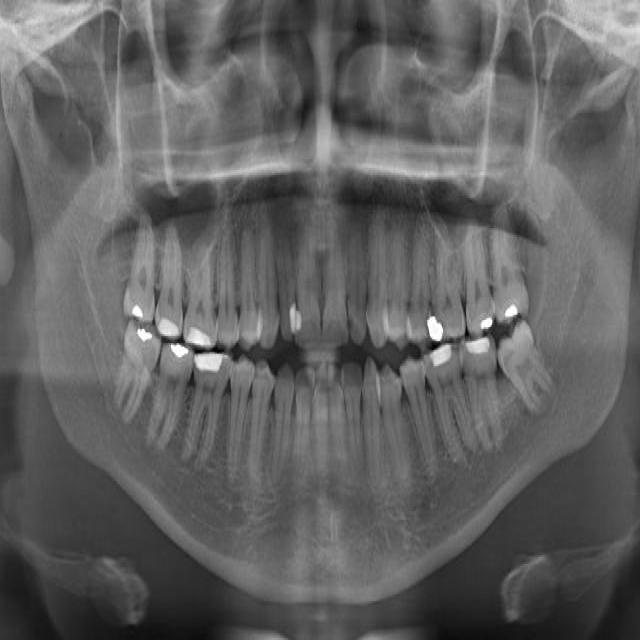dentin-curugu: (341, 306, 358, 336)
dolgu: (423, 304, 457, 346), (420, 340, 460, 371), (186, 311, 217, 350), (194, 347, 228, 382), (462, 334, 498, 367), (160, 340, 193, 375), (158, 300, 184, 340), (127, 288, 152, 324), (497, 291, 523, 323), (131, 320, 156, 352), (288, 292, 304, 337), (470, 305, 495, 331)
